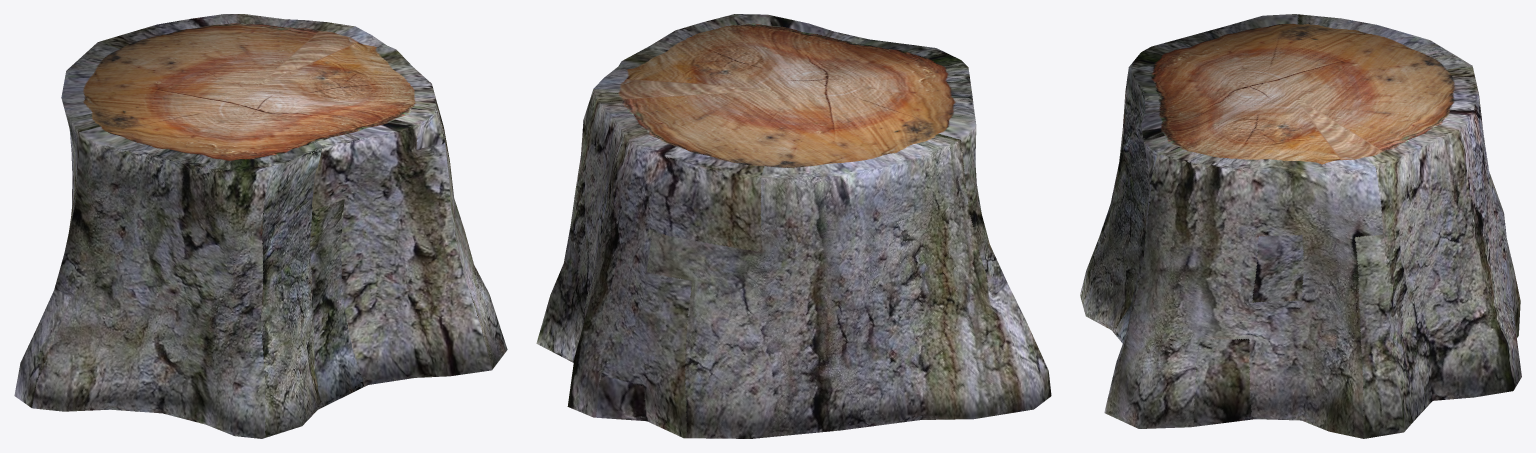
File: tronco.fbx
The picture shows the model from 3 angles, left to right: view 1: azimuth 30°, elevation 25°; view 2: azimuth 150°, elevation 25°; view 3: azimuth 270°, elevation 25°; orthographic projection. The views are drawn at different scales.
Visible parts, largest first — view 1: tronco_low; view 2: tronco_low; view 3: tronco_low.
Boxes of the visible parts, bbox=[...] form: tronco_low: bbox=[14, 14, 507, 438]; tronco_low: bbox=[536, 14, 1051, 438]; tronco_low: bbox=[1080, 14, 1521, 438].
Size of the model in its own units: 174 by 95.29 by 152.
